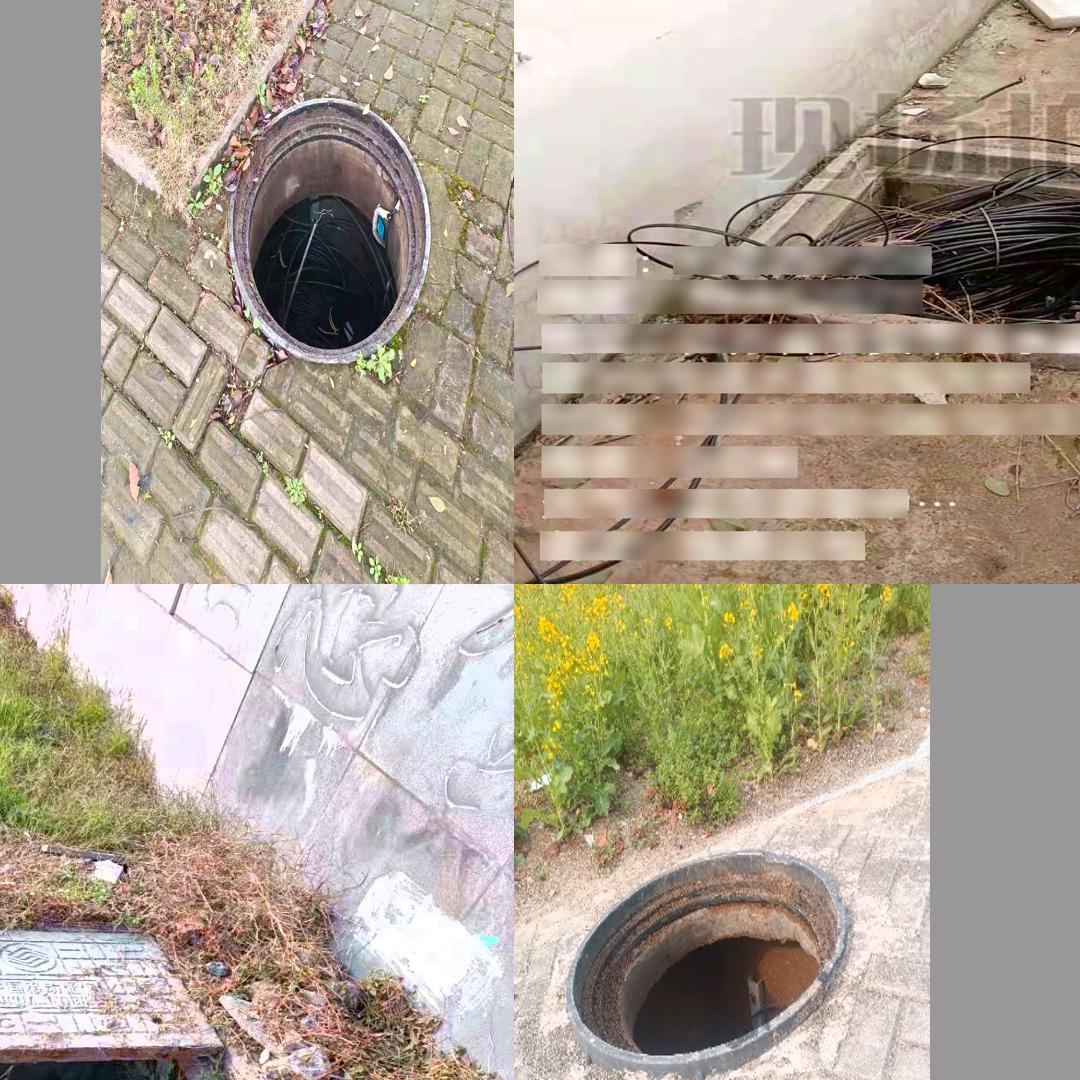lose: (679, 137, 1080, 379), (543, 819, 883, 1080), (0, 884, 354, 1080), (226, 98, 429, 364)
